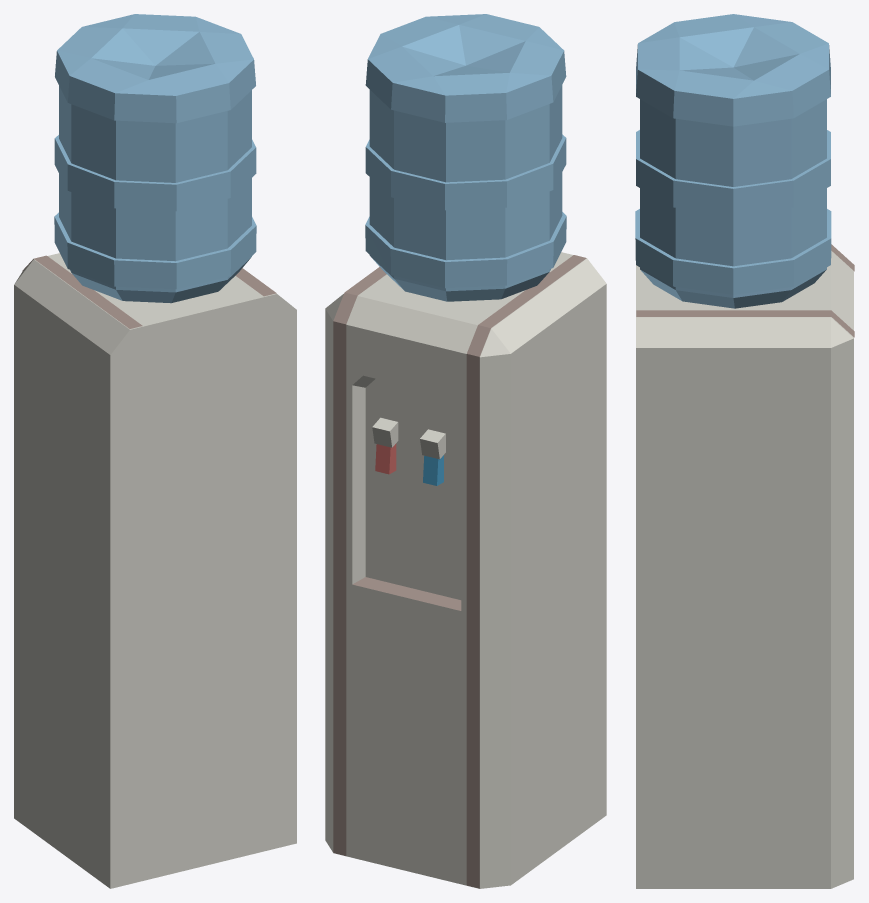
Rendered from prop_waterbubble.glb.
The picture shows the model from 3 angles, left to right: view 1: azimuth 30°, elevation 25°; view 2: azimuth 150°, elevation 25°; view 3: azimuth 270°, elevation 25°; orthographic projection.
Parts seen in each view (by area): view 1: prop_waterbubble; view 2: prop_waterbubble; view 3: prop_waterbubble.
Boxes of the visible parts, x1,y1,x2,y2 form: prop_waterbubble: (14, 14, 296, 888); prop_waterbubble: (325, 14, 606, 888); prop_waterbubble: (635, 14, 854, 888).
Bounding box in the file's own units: 0.2587 × 1.03 × 0.2597.
